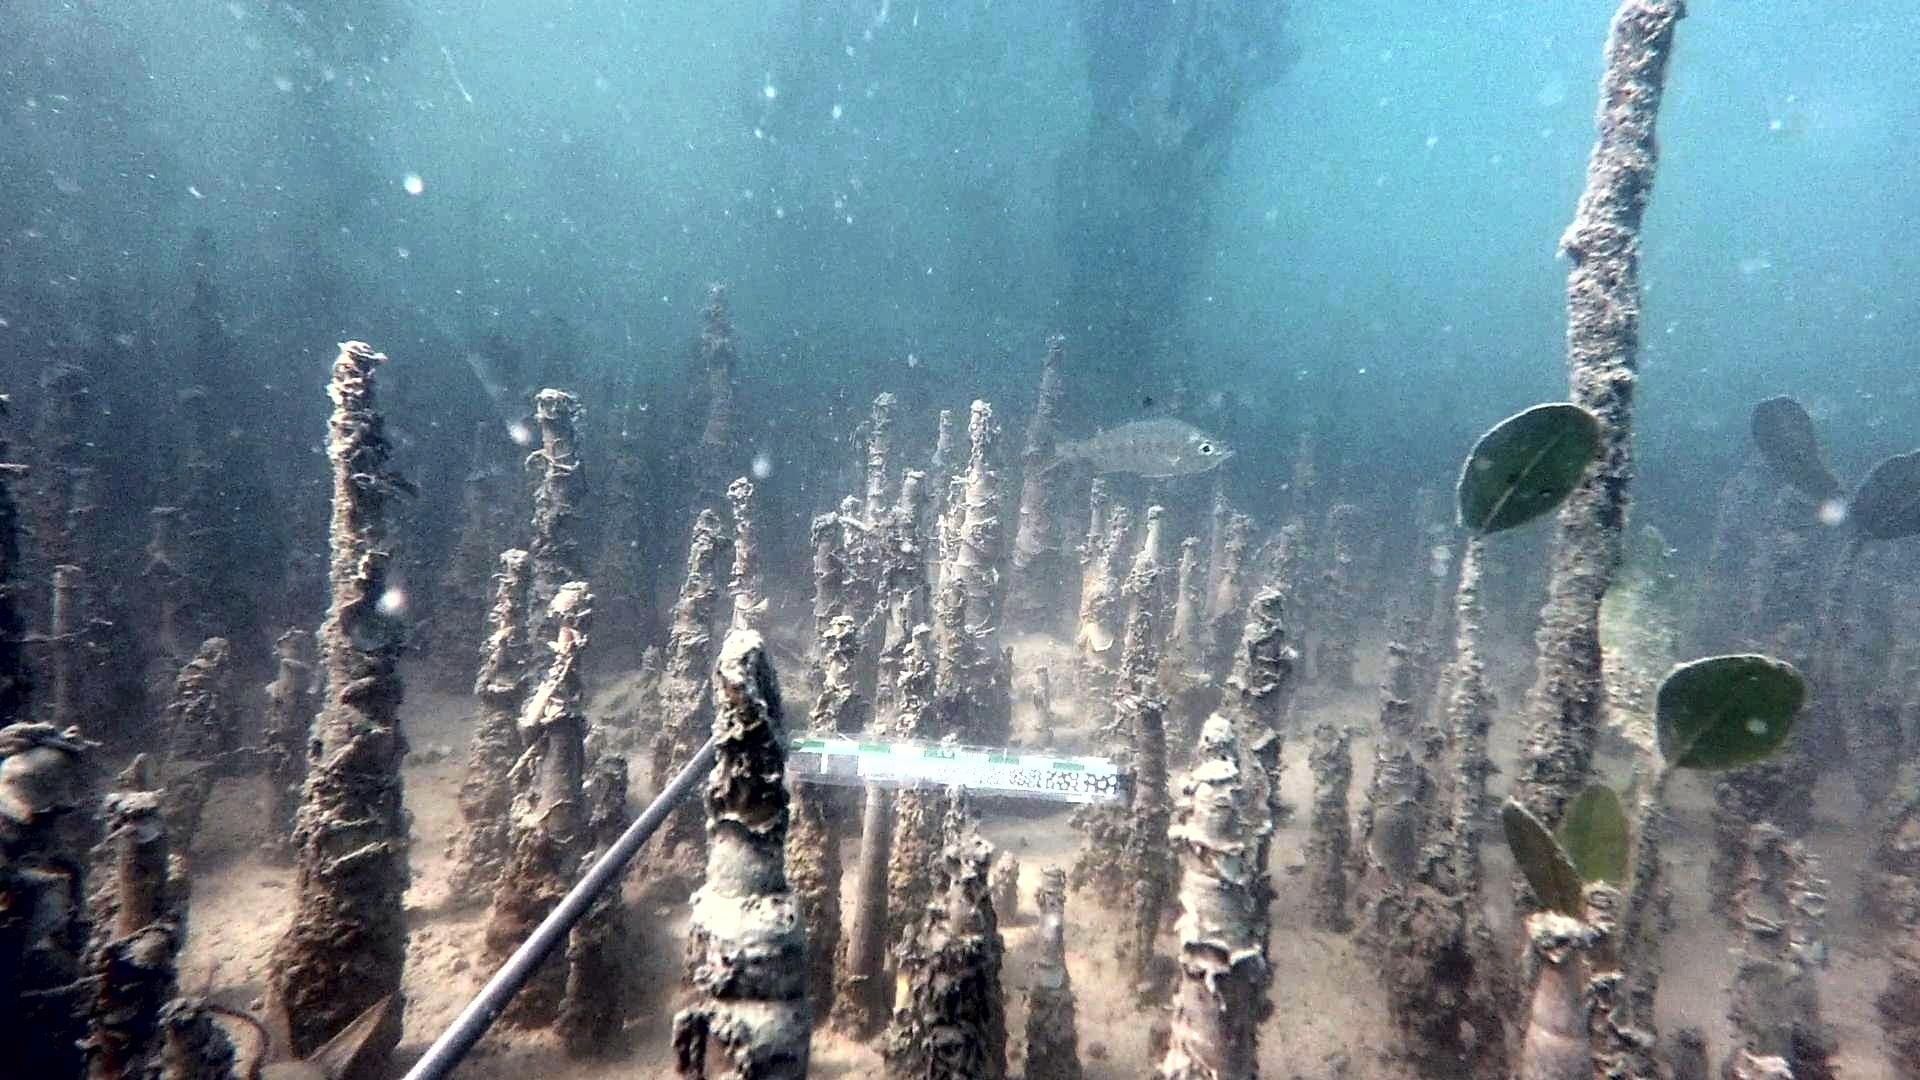gerres: (1029, 396, 1240, 483)
